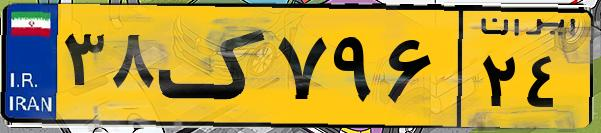2: (475, 38, 525, 113)
3: (57, 26, 110, 100)
4: (525, 38, 570, 115)
6: (385, 28, 445, 110)
7: (270, 28, 330, 110)
8: (110, 28, 158, 98)
9: (330, 28, 385, 110)
ک: (158, 12, 270, 120)
